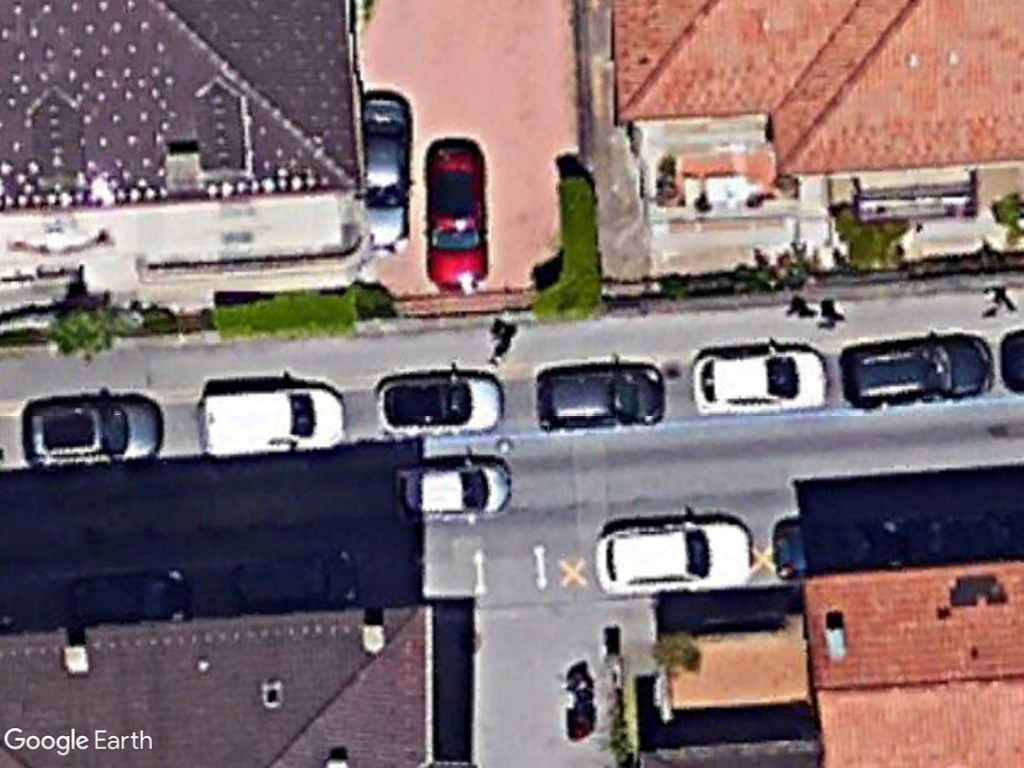car: (587, 514, 762, 602), (838, 324, 1002, 416), (20, 389, 171, 473), (421, 135, 493, 293), (686, 346, 833, 419), (370, 370, 506, 441), (534, 363, 666, 436), (386, 460, 513, 526)
van: (191, 380, 348, 466)
